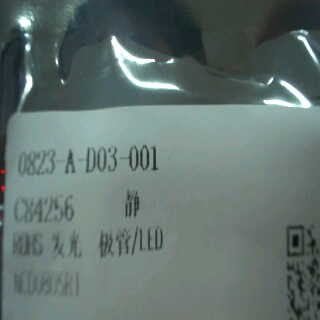LED: (47, 226, 172, 257)
